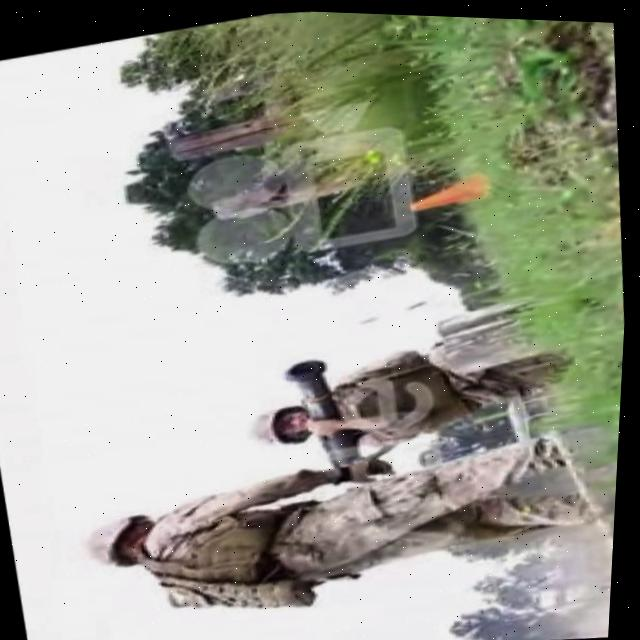rocket: (277, 347, 371, 490)
